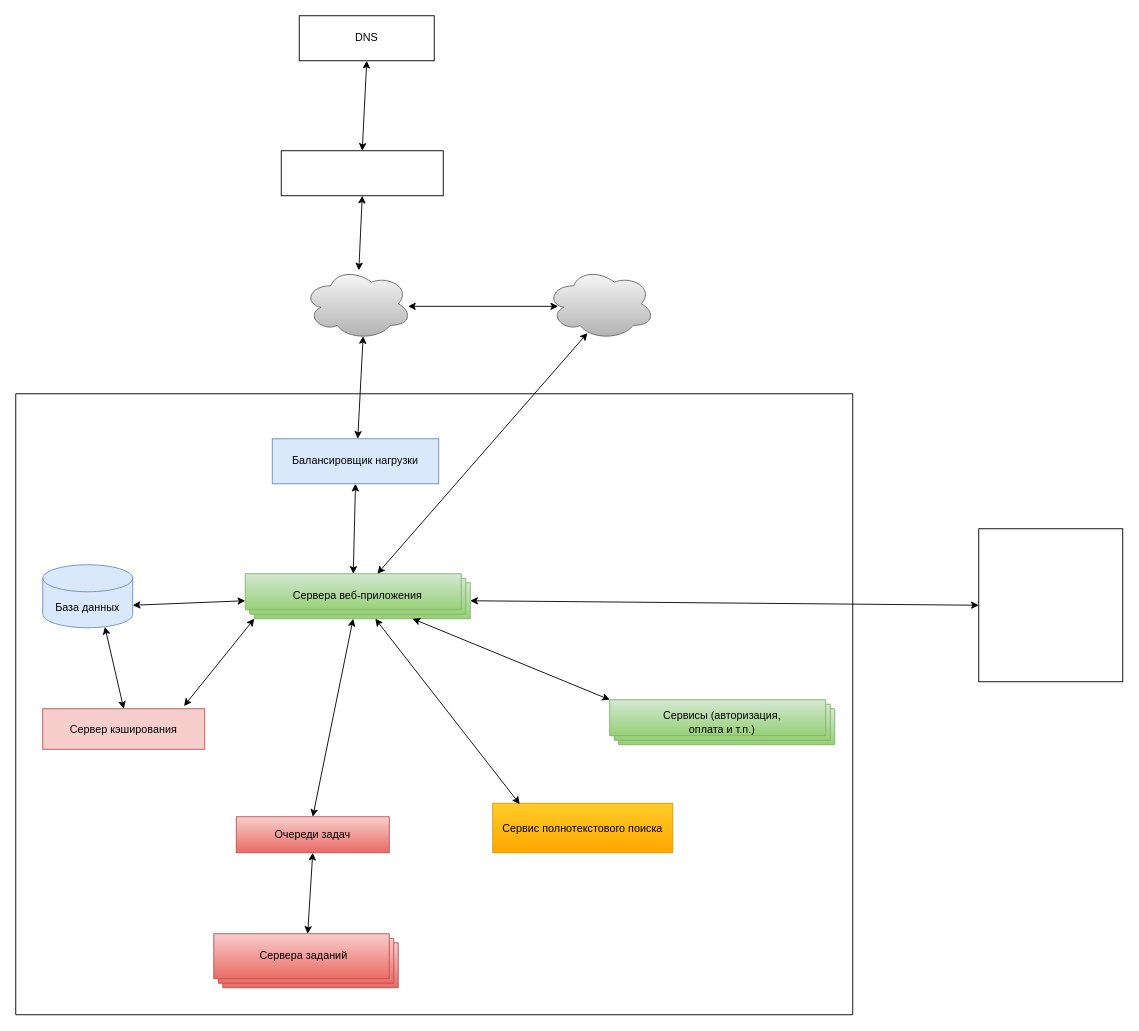
The diagram is 1139 pixels wide and 1031 high, and some of its shapes have lost their labels. The box of each missing label's shape, as (x1, y1, x2, y2) in pixels:
CDN: (303, 267, 412, 340)
Браузер пользователя: (280, 150, 443, 196)
Облачное хранилище: (546, 267, 655, 340)
Сервис доставки: (978, 528, 1123, 682)
